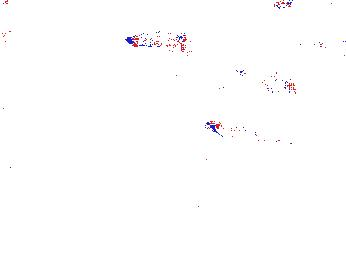glassfish: (203, 115, 303, 159)
redtail glassfish: (125, 28, 187, 51), (293, 28, 346, 54), (235, 60, 274, 89), (261, 72, 298, 98), (332, 44, 346, 72)
